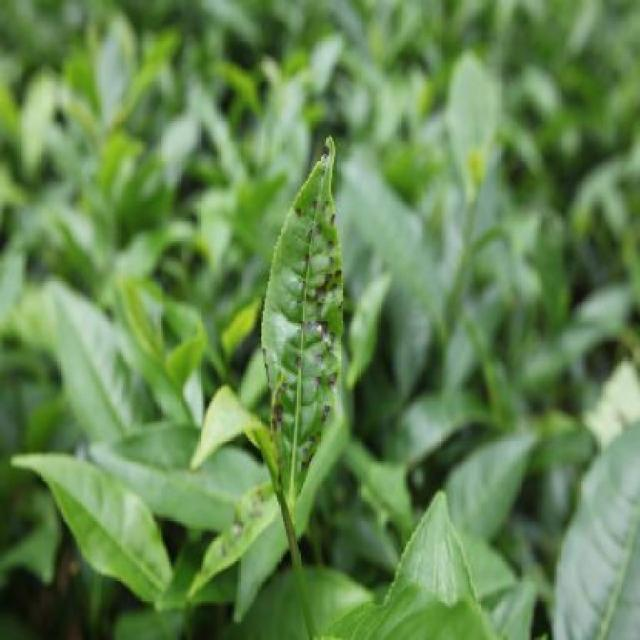Tea Mosquito bug infested leaf: (254, 149, 351, 534)
